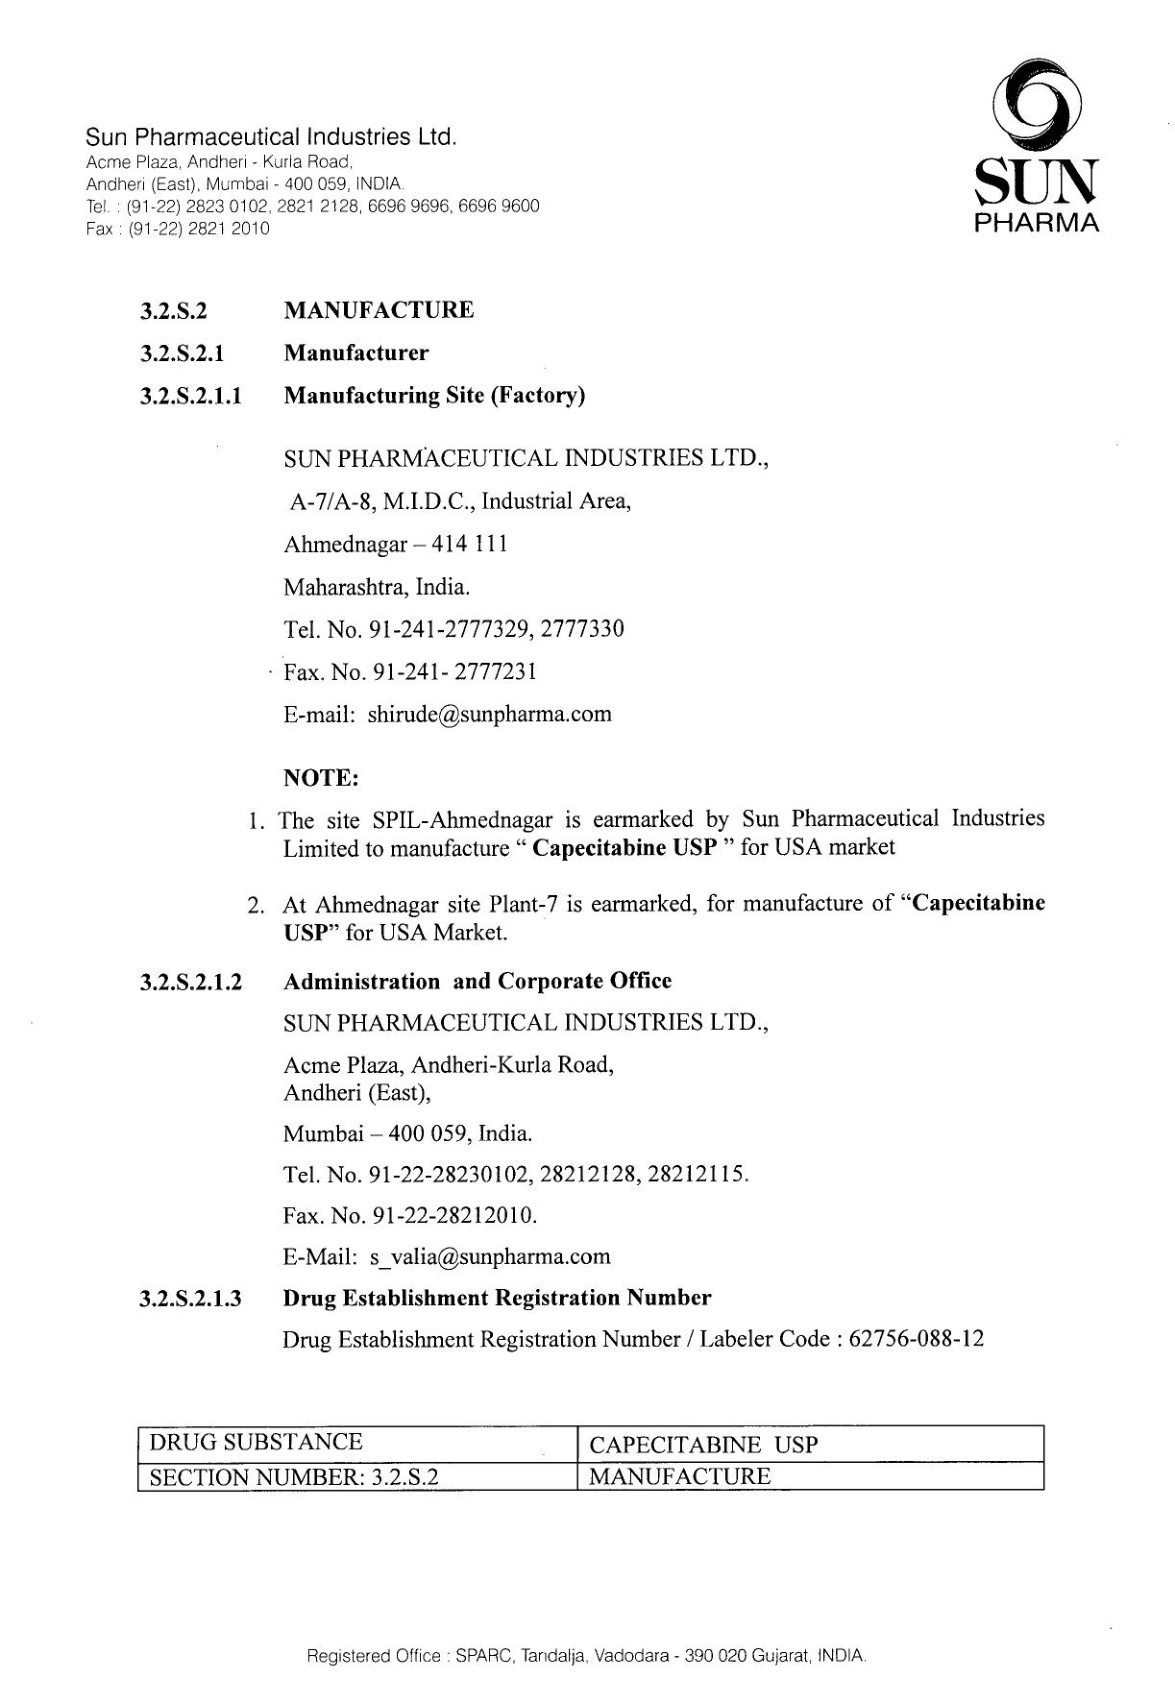full_lined: (118, 1403, 1052, 1515)
